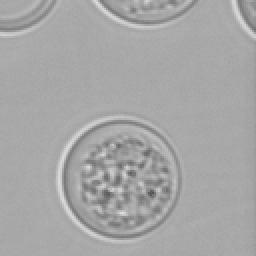picoshell: (56, 116, 180, 240), (230, 0, 256, 40)
